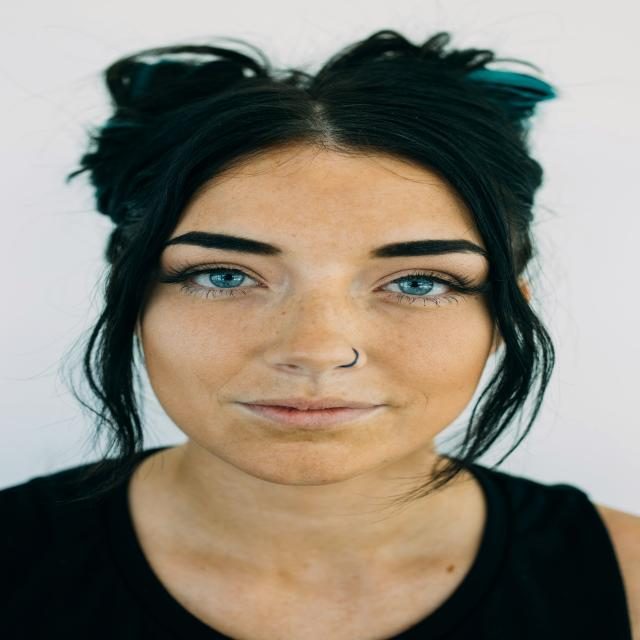adult: (10, 31, 640, 638)
